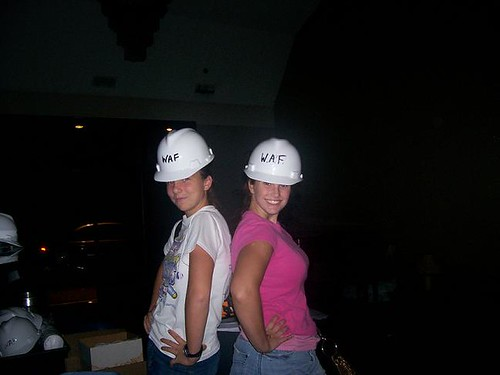hardhat: (1, 306, 46, 362), (1, 213, 28, 269)
person hardhat: (236, 129, 326, 375), (146, 127, 231, 375)
